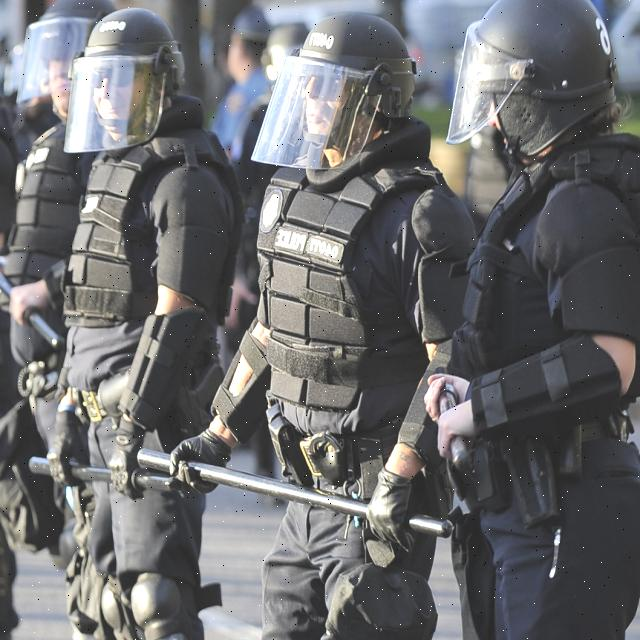police: (208, 4, 469, 640), (437, 0, 640, 640), (46, 0, 241, 640)
